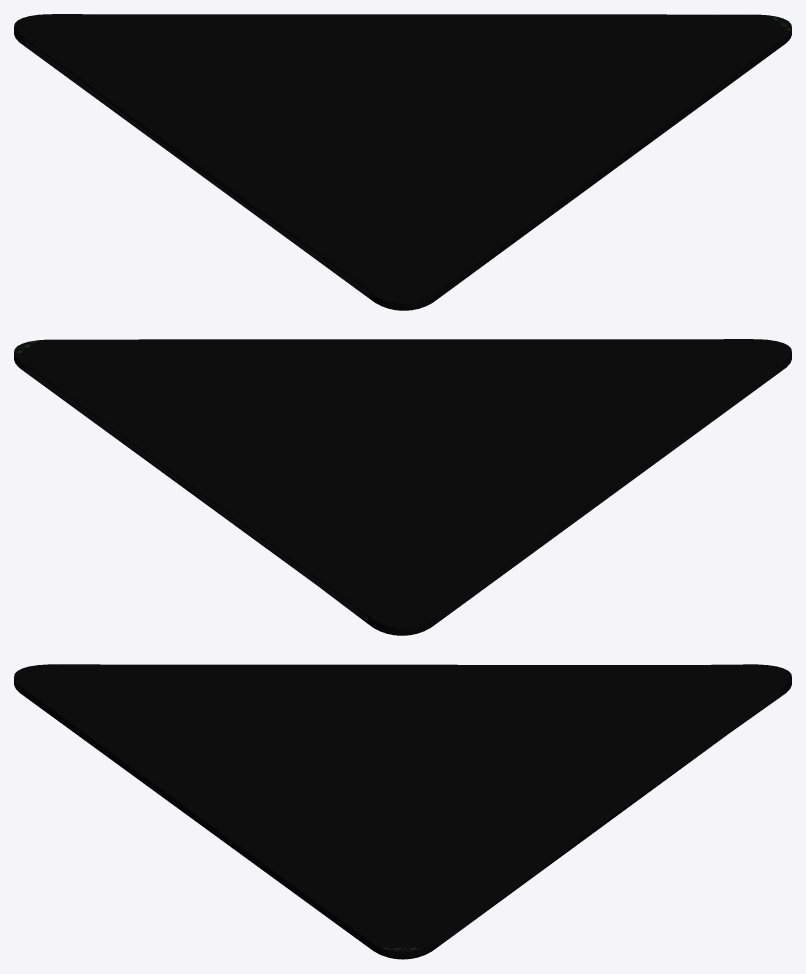
3 views of the same model, one above another, from view 1: azimuth 30°, elevation 25°; view 2: azimuth 150°, elevation 25°; view 3: azimuth 270°, elevation 25° (orthographic).
Visible parts, largest first — view 1: Cube.003; view 2: Cube.003; view 3: Cube.003.
Boxes of the visible parts, box(x1,y1,x2,y2) form: Cube.003: box(14, 14, 791, 310); Cube.003: box(14, 339, 791, 635); Cube.003: box(14, 664, 791, 959).
Bounding box in the file's own units: 0.0743 × 0.000864 × 0.0849.
Materials: 1 (1 with a texture image).
